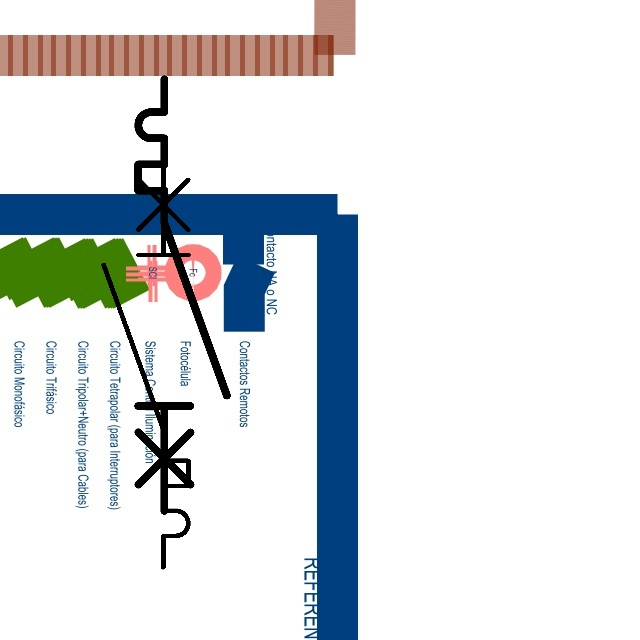interruptor_termomagnetico: (127, 68, 238, 522), (93, 144, 199, 578)
